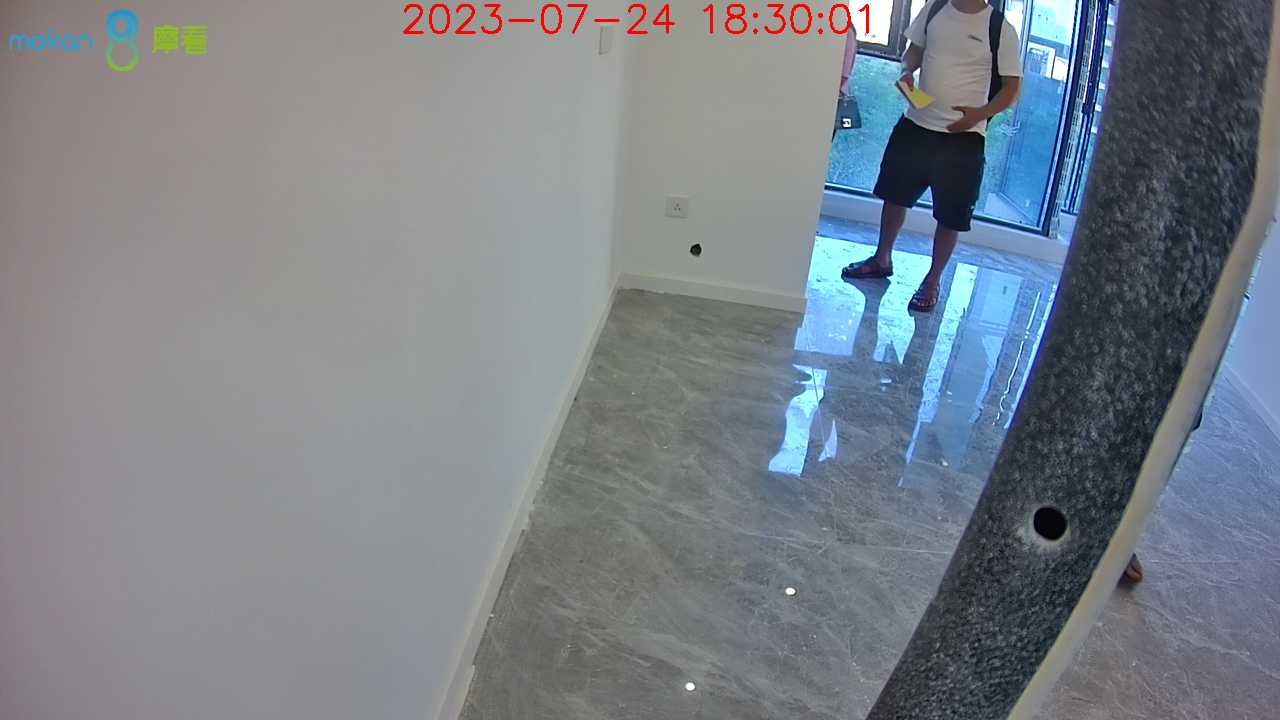people: (863, 2, 1021, 315)
window: (823, 3, 1095, 231)
